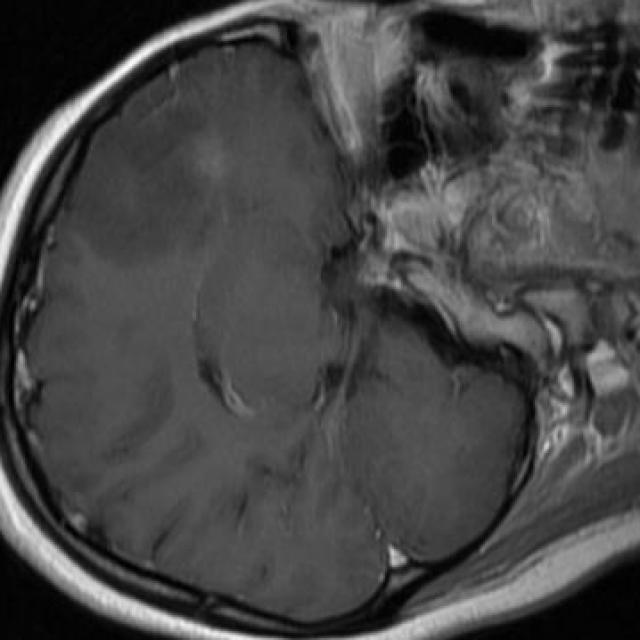glioma: (84, 96, 217, 266)
